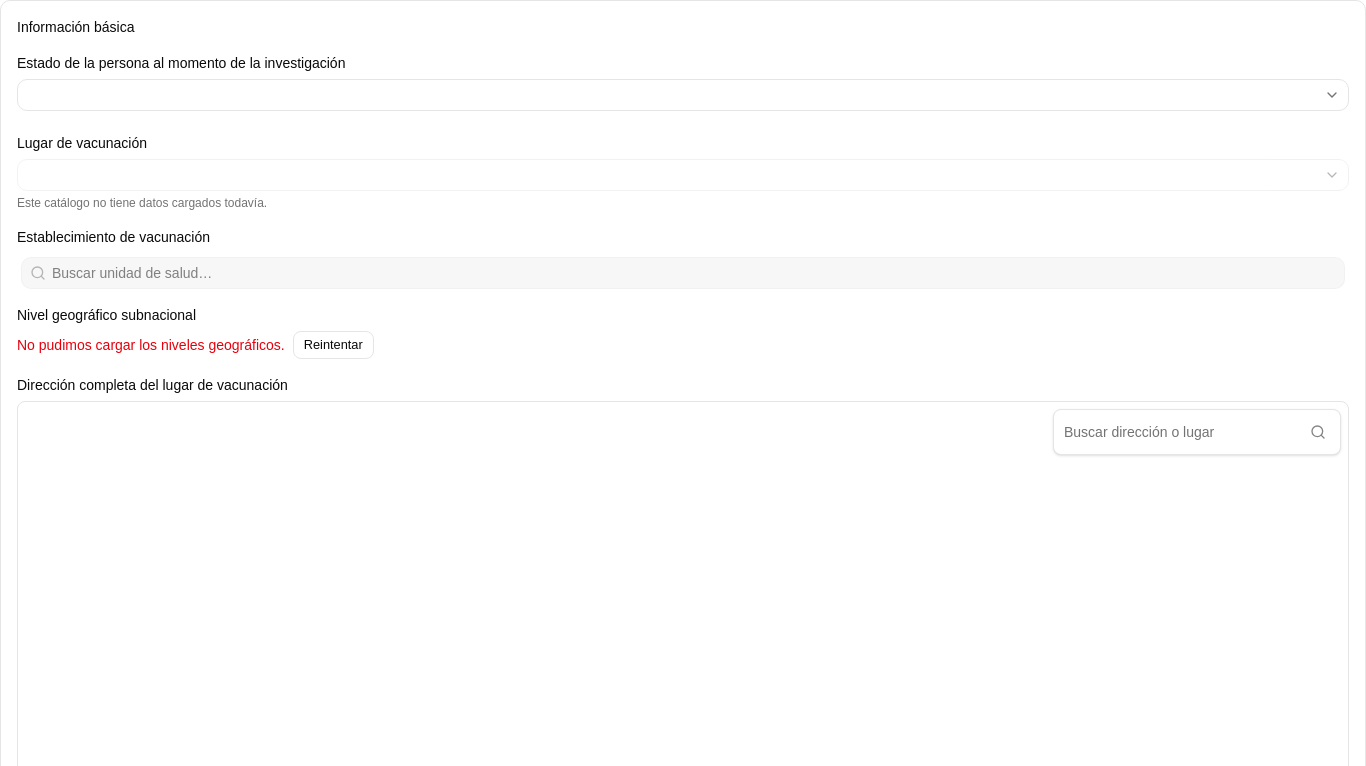
Test: BasicInfoSection — el bloque de muerte y autopsia (SPEC FE13a §4 paso 9) › elegir «Fallecido» revela el bloque y precarga la fecha de la notificación
The width and height of the screenshot is (1366, 766).
Expected: the field labelled "Si la persona murió, indique la fecha de la muerte" is not shown
Step 1. Click the dropdown named "Estado de la persona al momento de la investigación" → (1332, 95), box [17,79,1349,111]
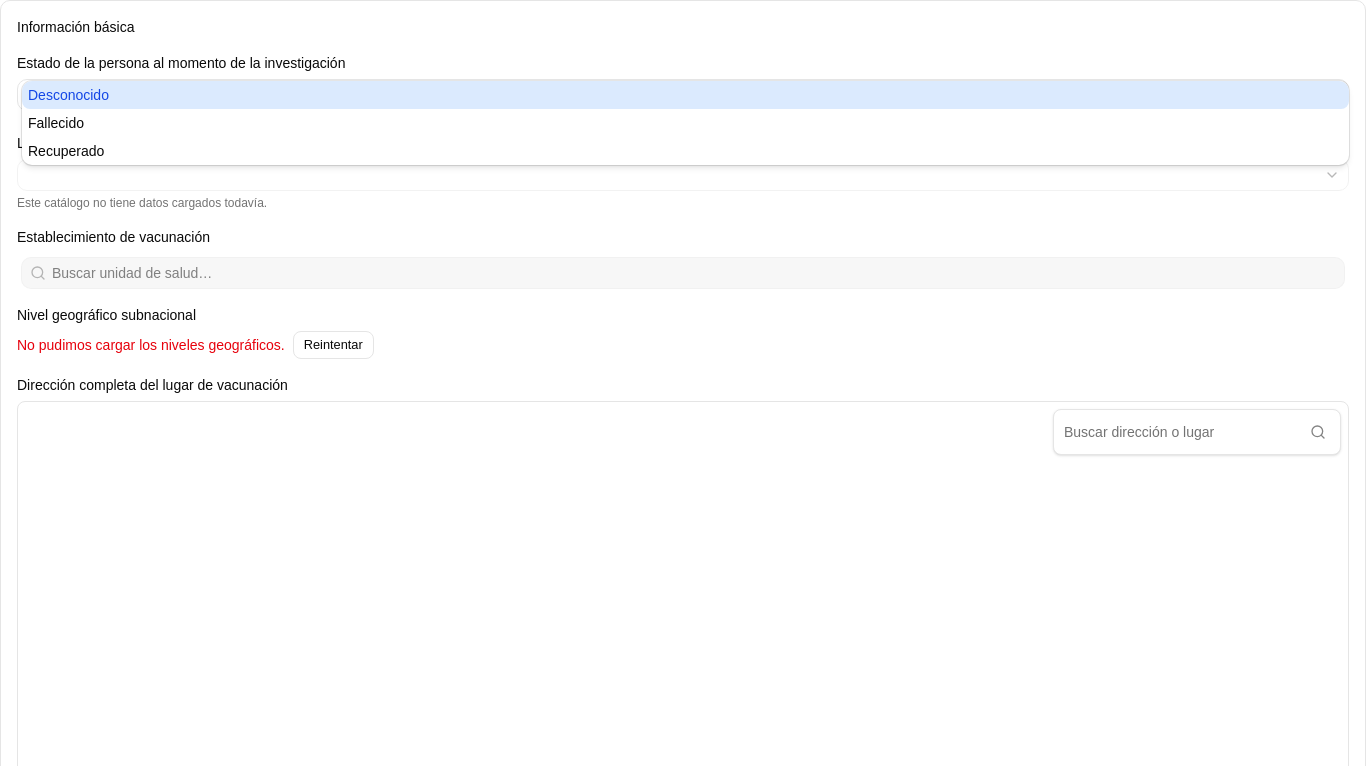
Step 2. Click the option "Fallecido" → (56, 123), box [28,115,84,131]
(page scrolled)
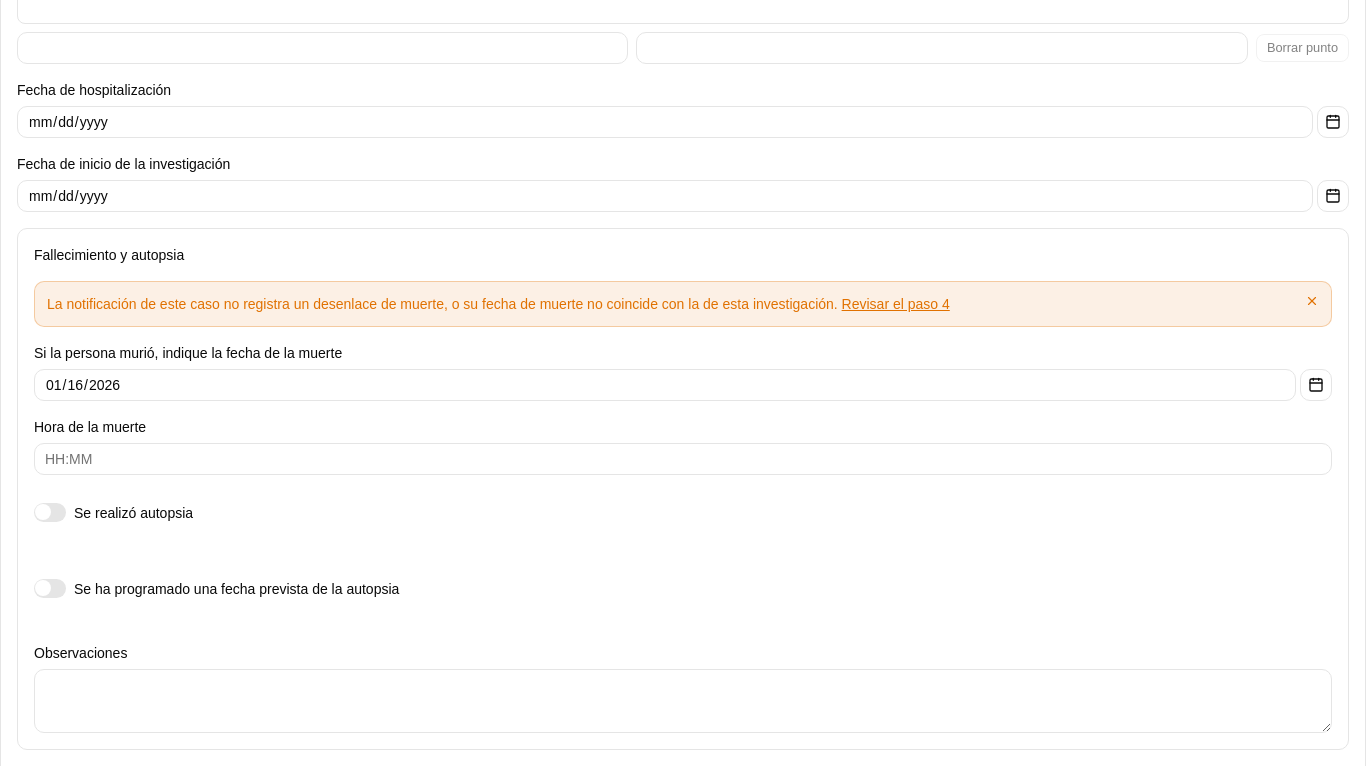
Now the date field named "Si la persona murió, indique la fecha de la muerte" holds "2026-01-16", box [34,368,1296,400]
